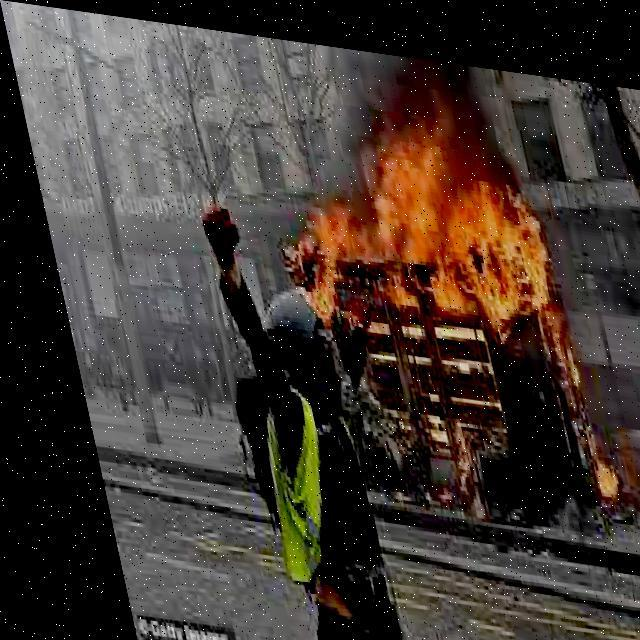Fire: (256, 100, 558, 342), (548, 412, 613, 488)
